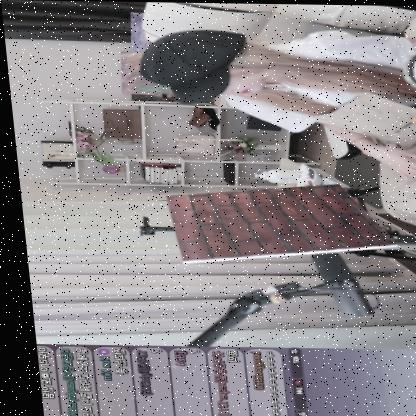streamer: (132, 26, 416, 235)
